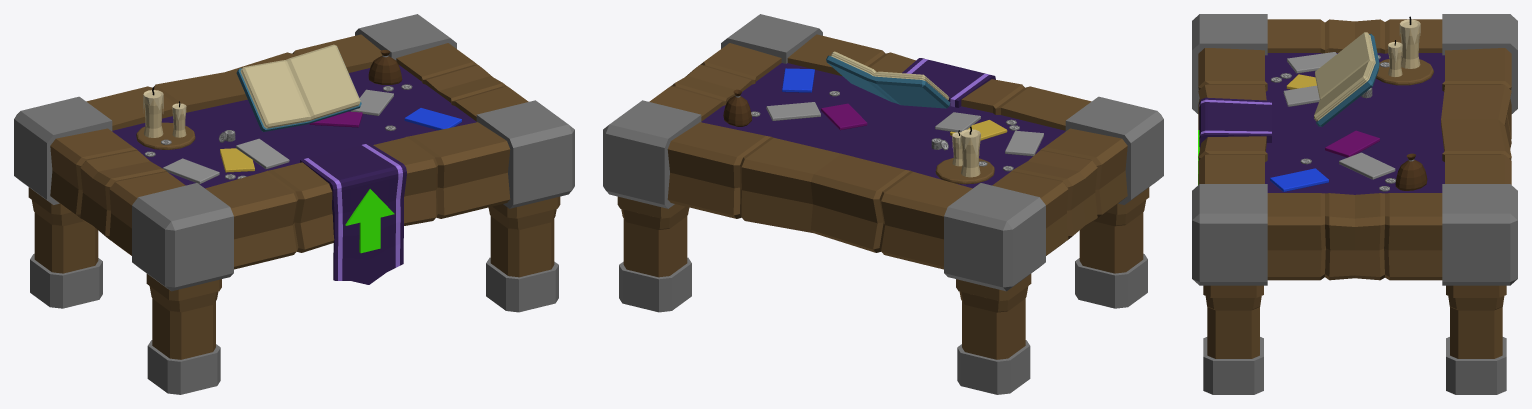
Rendered from UpgradeTable.fbx.
The picture shows the model from 3 angles, left to right: view 1: azimuth 30°, elevation 25°; view 2: azimuth 150°, elevation 25°; view 3: azimuth 270°, elevation 25°; orthographic projection. The views are drawn at different scales.
Visible parts, largest first — view 1: Cube, Cube.001, Cube.009, Cube.002, Cube.008, Cube.003, Cube.005, Cube.007, Cube.014, Cube.004, Cylinder, Sphere (+6 smaller); view 2: Cube, Cube.001, Cube.002, Cube.009, Cube.008, Cube.006, Cube.003, Cube.007, Cylinder, Cube.012, Cube.013, Sphere (+3 smaller); view 3: Cube, Cube.001, Cube.002, Cube.009, Cube.008, Cube.005, Cube.003, Cube.007, Cylinder, Cube.011, Sphere, Cube.012 (+7 smaller).
Boxes of the visible parts, bbox=[...] form: Cube: bbox=[50, 34, 528, 269]; Cube.001: bbox=[14, 14, 574, 291]; Cube.009: bbox=[28, 187, 560, 359]; Cube.002: bbox=[112, 65, 476, 188]; Cube.008: bbox=[30, 253, 558, 394]; Cube.003: bbox=[300, 143, 406, 284]; Cube.005: bbox=[240, 44, 360, 128]; Cube.007: bbox=[163, 138, 289, 183]; Cube.014: bbox=[345, 189, 394, 253]; Cube.004: bbox=[304, 144, 402, 280]; Cylinder: bbox=[136, 122, 195, 149]; Sphere: bbox=[368, 50, 402, 84]; Cube: bbox=[649, 34, 1127, 269]; Cube.001: bbox=[603, 14, 1163, 291]; Cube.002: bbox=[701, 63, 1065, 188]; Cube.009: bbox=[617, 187, 1149, 359]; Cube.008: bbox=[619, 253, 1147, 394]; Cube.006: bbox=[826, 55, 950, 108]; Cube.003: bbox=[902, 58, 995, 107]; Cube.007: bbox=[935, 112, 1043, 156]; Cylinder: bbox=[935, 158, 994, 184]; Cube.012: bbox=[766, 102, 820, 120]; Cube.013: bbox=[821, 103, 867, 130]; Sphere: bbox=[723, 89, 752, 126]; Cube: bbox=[1198, 19, 1511, 280]; Cube.001: bbox=[1192, 14, 1517, 285]; Cube.002: bbox=[1265, 53, 1444, 194]; Cube.009: bbox=[1203, 285, 1506, 358]; Cube.008: bbox=[1203, 337, 1506, 394]; Cube.005: bbox=[1314, 32, 1375, 121]; Cube.003: bbox=[1199, 97, 1271, 149]; Cube.007: bbox=[1283, 52, 1336, 106]; Cylinder: bbox=[1376, 59, 1433, 85]; Cube.011: bbox=[1270, 168, 1328, 191]; Sphere: bbox=[1395, 153, 1427, 190]; Cube.012: bbox=[1339, 152, 1395, 179].
Bounding box in the file's own units: 1387 × 763 × 927.
